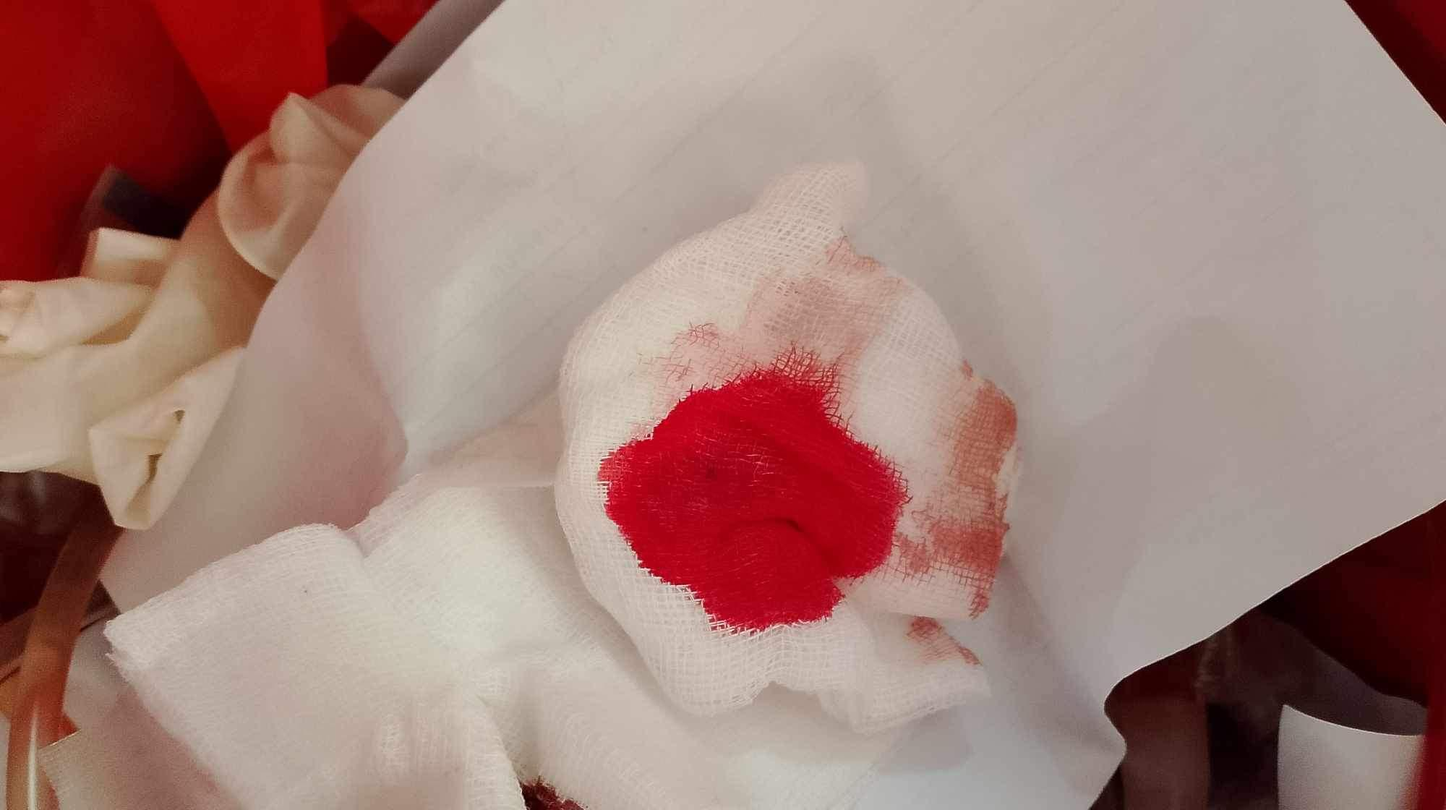General: (6, 3, 1438, 806)
Infectious: (551, 158, 1020, 732)
